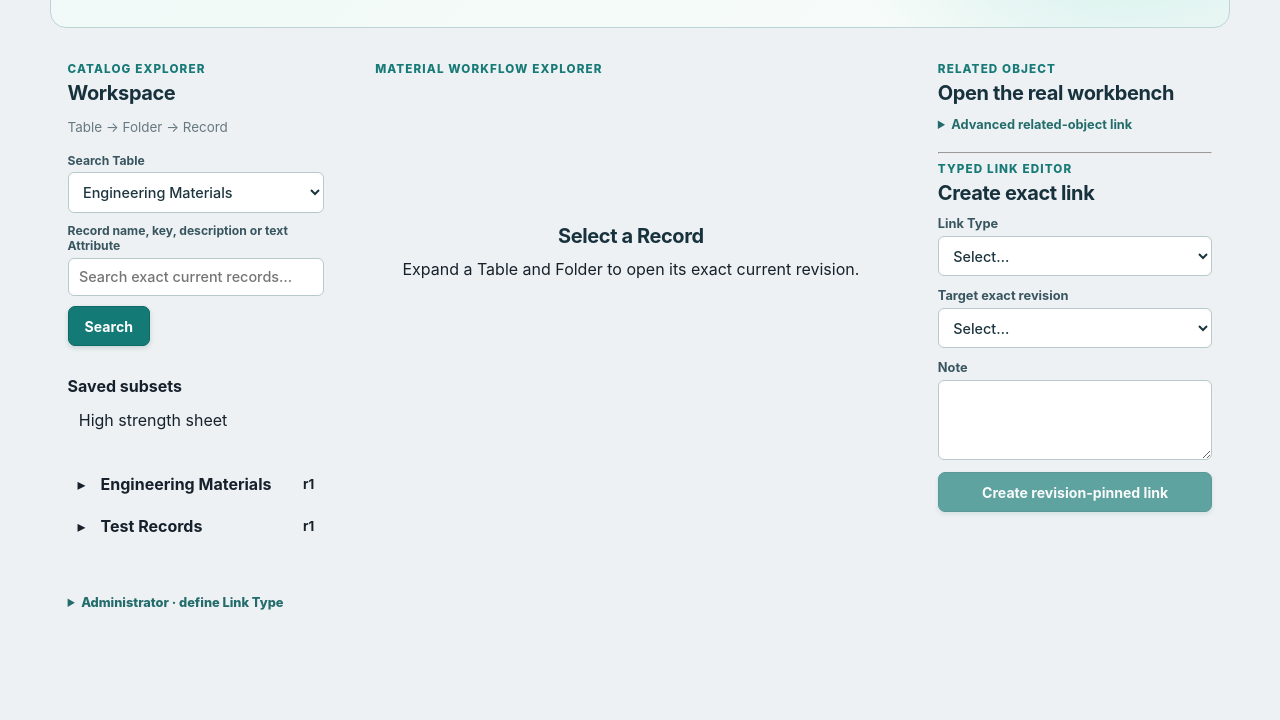
Test case: CatalogExplorer › opens lazy Catalog nodes as an exact-revision Workflow graph
(page scrolled)
Click the button "▸ Engineering Materials r1" at (196, 484), box [68, 466, 324, 502]
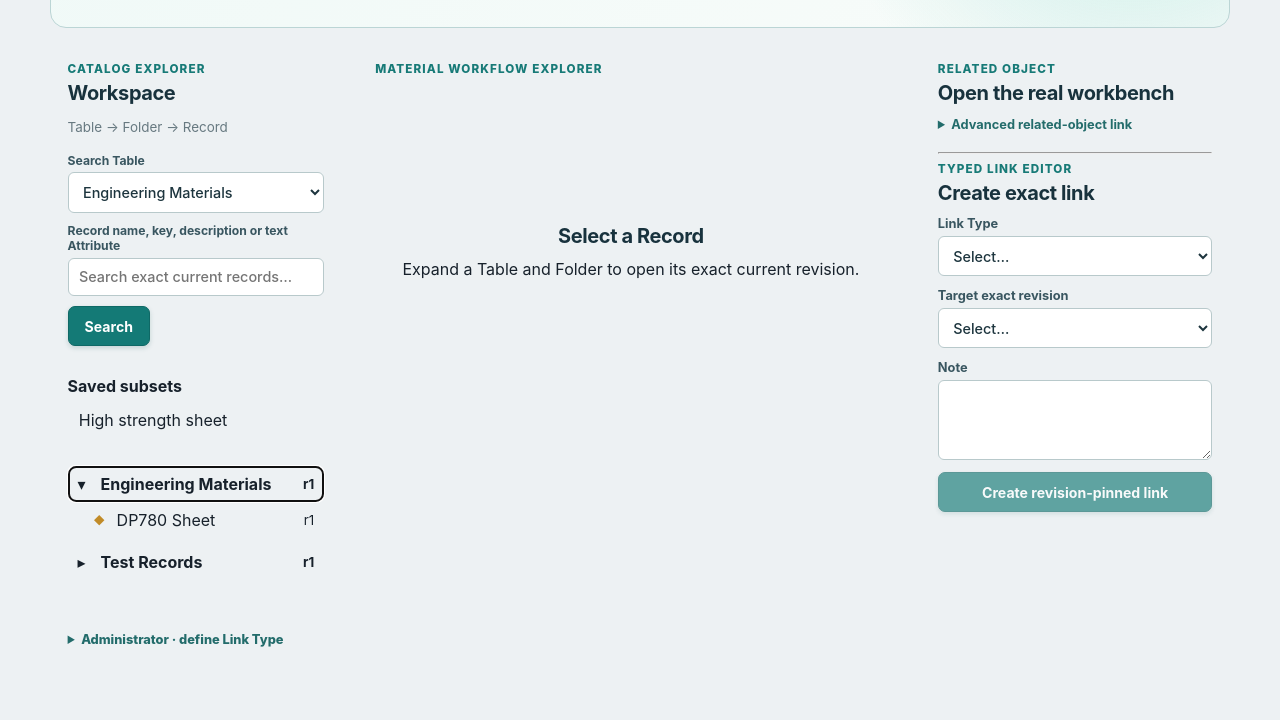
Now the button "◆ DP780 Sheet r1" is shown
Click the button "◆ DP780 Sheet r1" at (204, 520), box [84, 502, 324, 538]
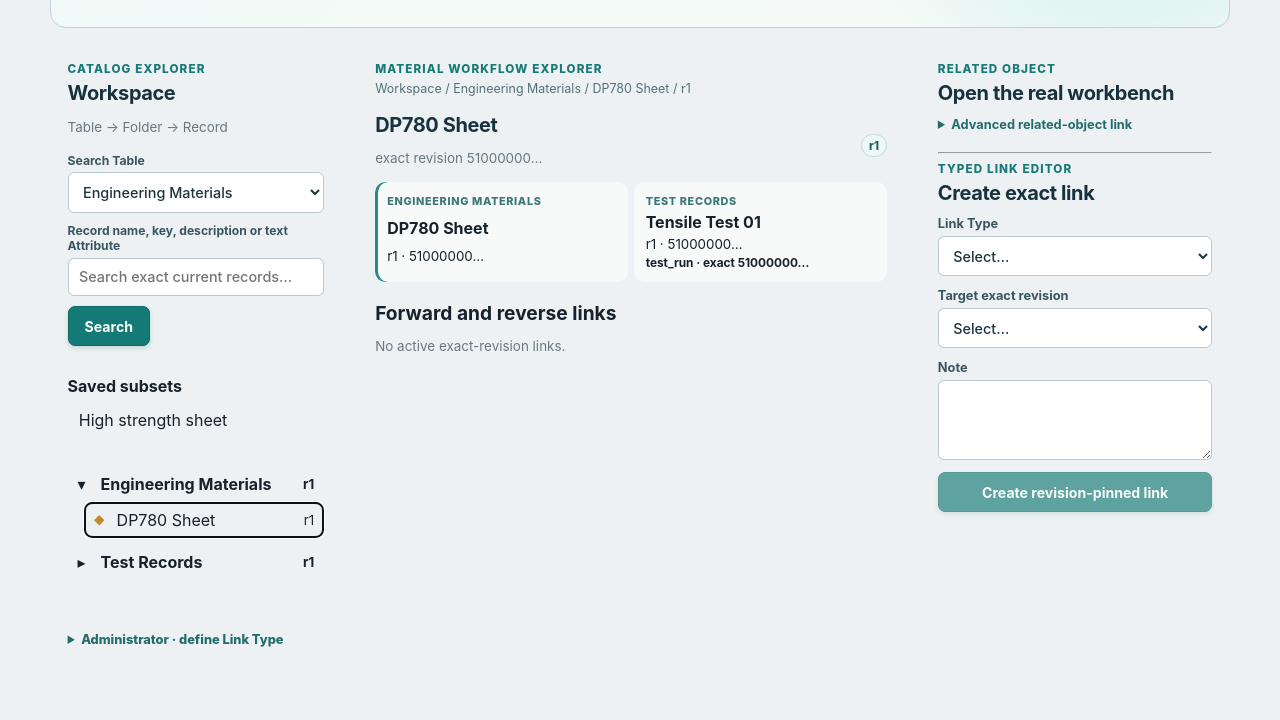
Now the text "exact revision 51000000…" is shown, box [375, 148, 542, 168]
Now the button "Tensile Test 01" is shown, box [634, 182, 887, 282]
